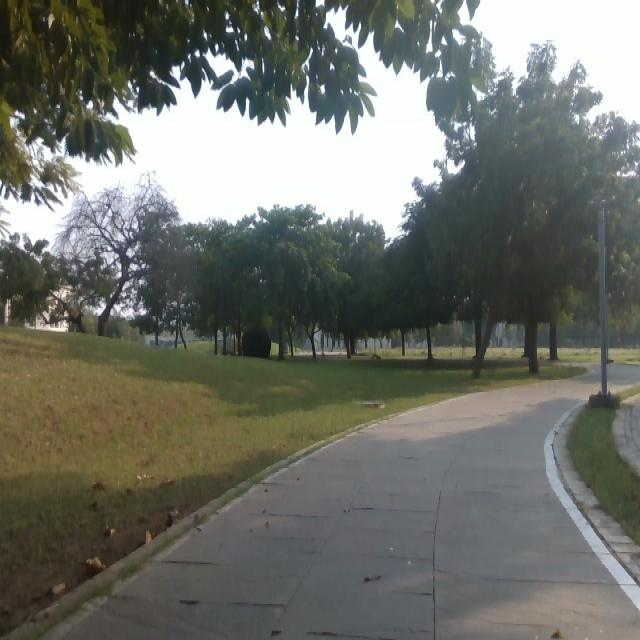lane: (64, 373, 639, 636)
